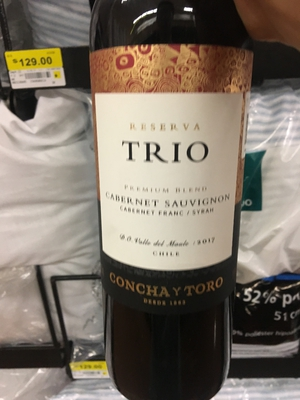trio cabernet sauvignon: (91, 12, 256, 400)
